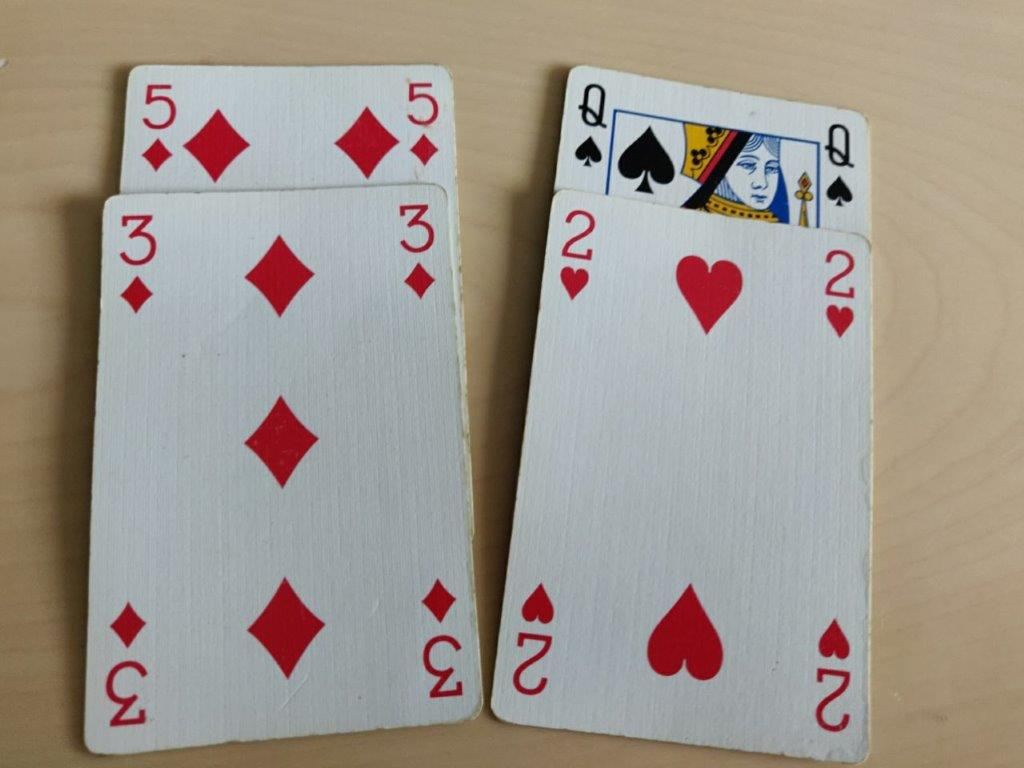2H: (551, 202, 599, 308), (818, 239, 866, 345)
3D: (113, 205, 166, 324), (391, 196, 444, 315)
5D: (134, 69, 184, 186), (401, 69, 451, 186)
QS: (573, 78, 610, 176), (822, 115, 859, 213)
